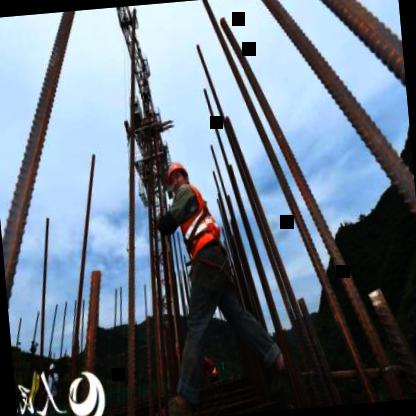helmet: (164, 158, 193, 198)
